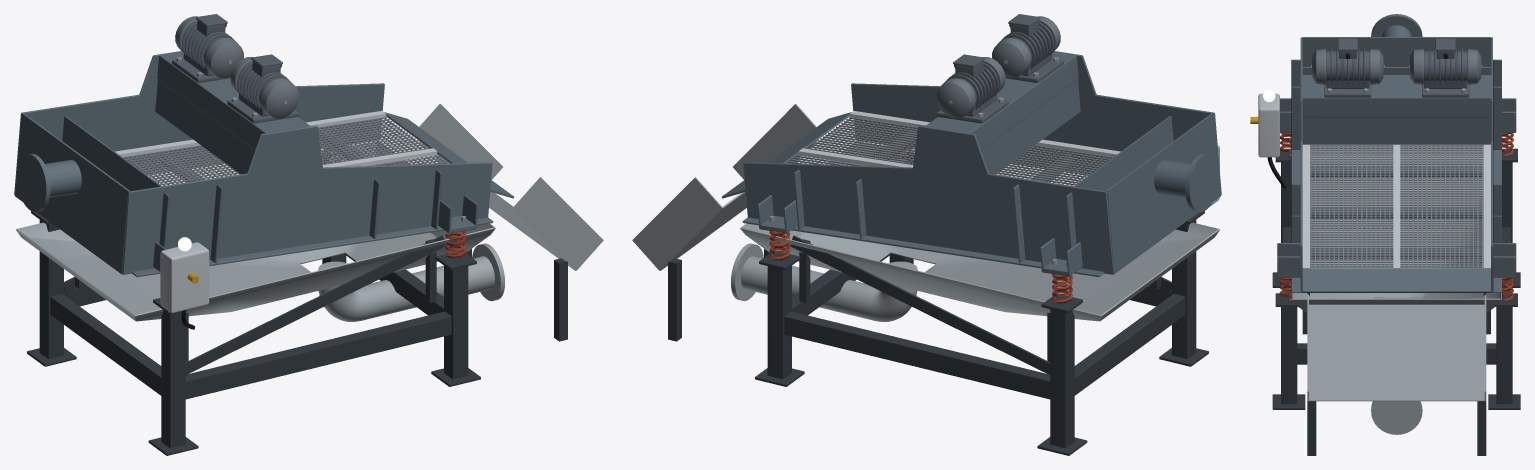
The model's file is vibrating_screen.glb.
3 renders of one model, left to right at view 1: azimuth 30°, elevation 25°; view 2: azimuth 150°, elevation 25°; view 3: azimuth 270°, elevation 25°, orthographic. The views are drawn at different scales.
Parts seen in each view (by area): view 1: SHAKE_box, BODY_support, BODY_pan, BODY_chute, isolator, chute_legs; view 2: SHAKE_box, BODY_support, BODY_pan, BODY_chute, chute_legs, springs; view 3: SHAKE_box, BODY_chute, BODY_pan, BODY_support, isolator, chute_legs, springs.
Boxes of the visible parts, x1=… form: SHAKE_box: x1=14, y1=14, x2=513, y2=277; BODY_support: x1=27, y1=153, x2=480, y2=455; BODY_pan: x1=16, y1=141, x2=504, y2=361; BODY_chute: x1=417, y1=104, x2=603, y2=270; isolator: x1=160, y1=242, x2=209, y2=329; chute_legs: x1=466, y1=249, x2=567, y2=341; SHAKE_box: x1=722, y1=14, x2=1221, y2=277; BODY_support: x1=755, y1=153, x2=1208, y2=455; BODY_pan: x1=731, y1=141, x2=1219, y2=361; BODY_chute: x1=632, y1=104, x2=818, y2=270; chute_legs: x1=668, y1=249, x2=769, y2=341; springs: x1=769, y1=148, x2=1072, y2=303; SHAKE_box: x1=1277, y1=14, x2=1516, y2=292; BODY_chute: x1=1307, y1=295, x2=1486, y2=401; BODY_pan: x1=1292, y1=144, x2=1501, y2=434; BODY_support: x1=1272, y1=148, x2=1520, y2=409; isolator: x1=1250, y1=93, x2=1286, y2=188; chute_legs: x1=1307, y1=401, x2=1486, y2=455; springs: x1=1279, y1=133, x2=1513, y2=301.
Size of the model in its own units: 2.95 by 1.79 by 1.5.
